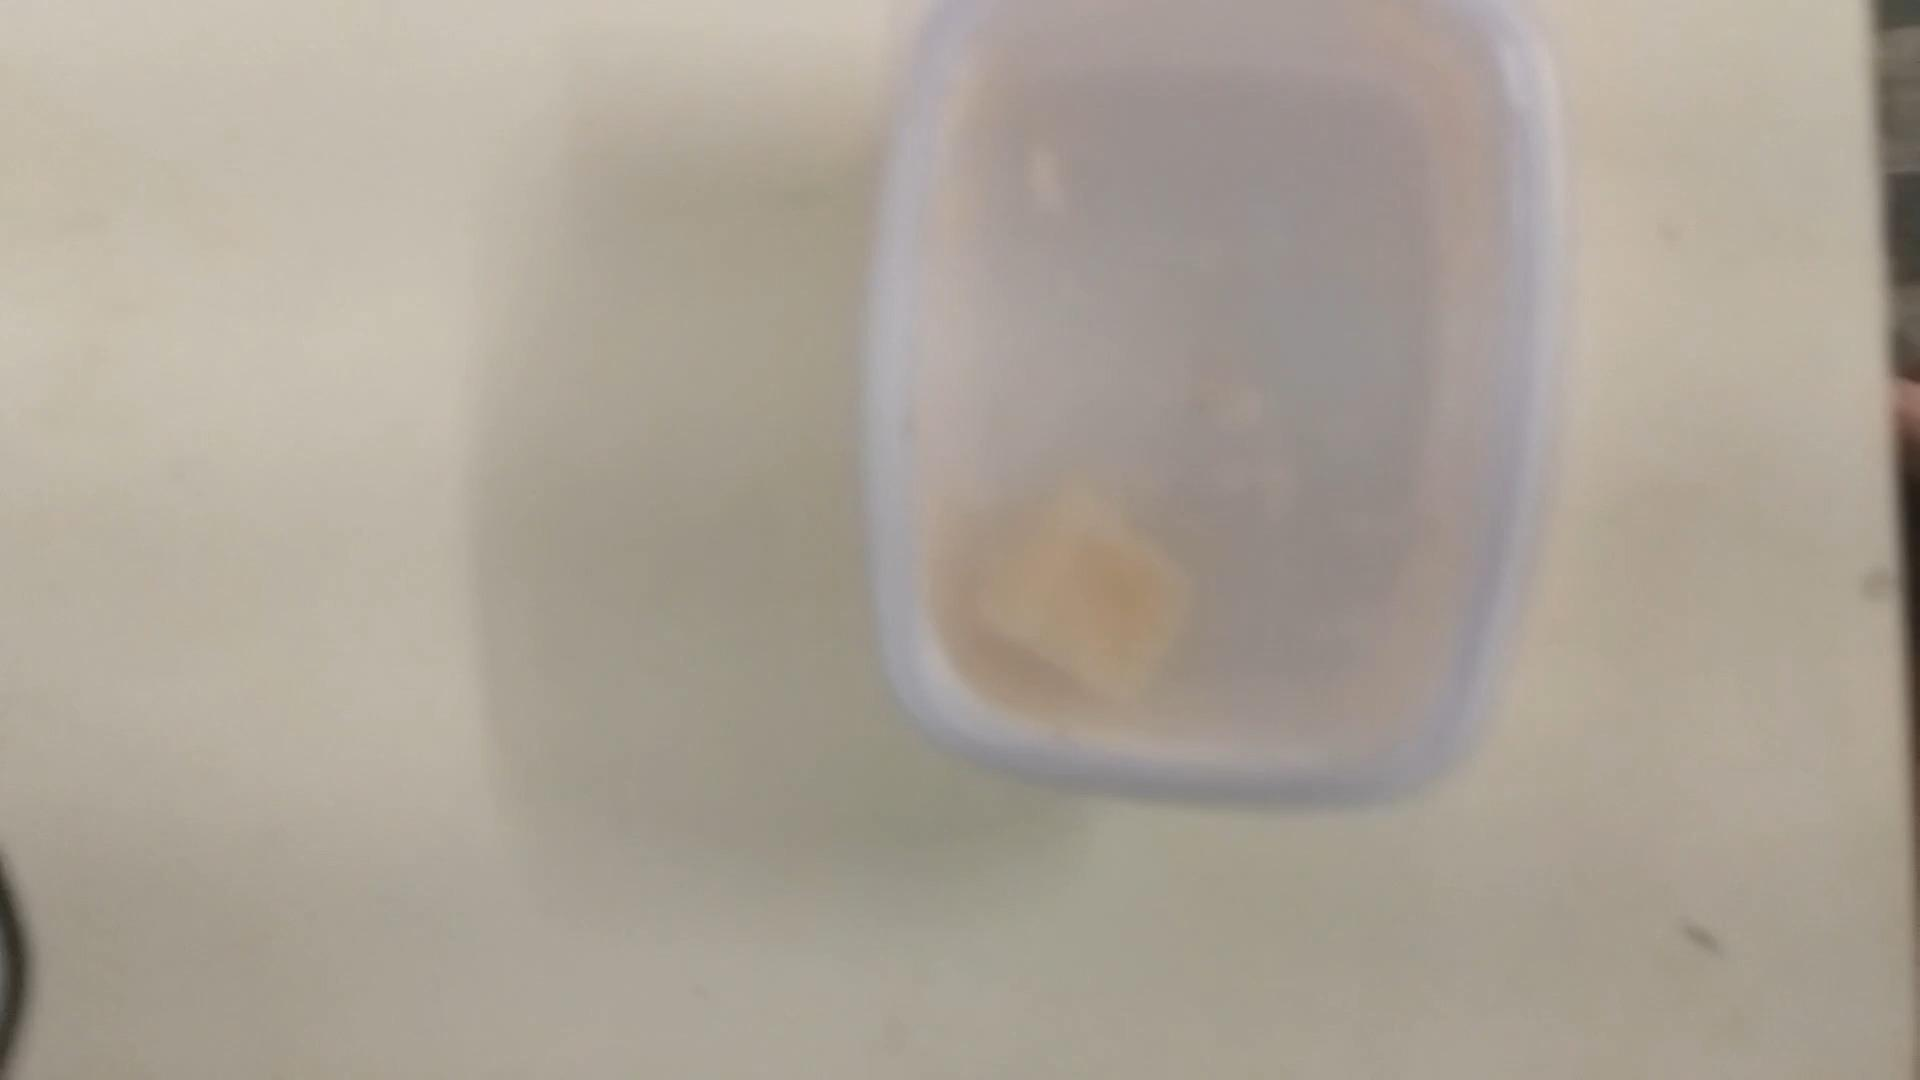butter: (868, 4, 1559, 814)
